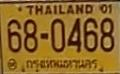0: (50, 18, 64, 52)
4: (67, 17, 80, 52)
6: (83, 17, 97, 51), (7, 18, 21, 52)
8: (23, 18, 37, 52), (100, 17, 114, 51)
BKK: (25, 57, 99, 72)
